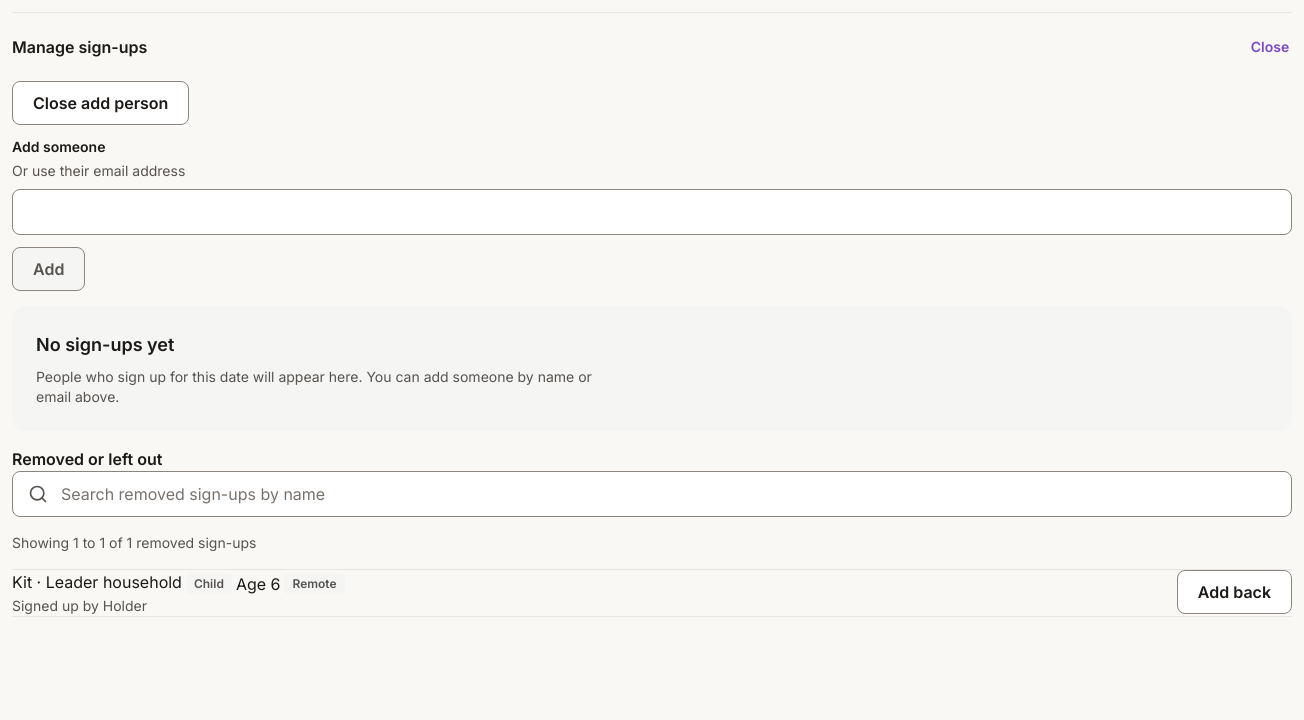
Test: shows childcare refusal without pretending the restore succeeded
Click the button with aria-label "Add back Kit" at (1234, 592), box x1=1177 y1=570 x2=1292 y2=614
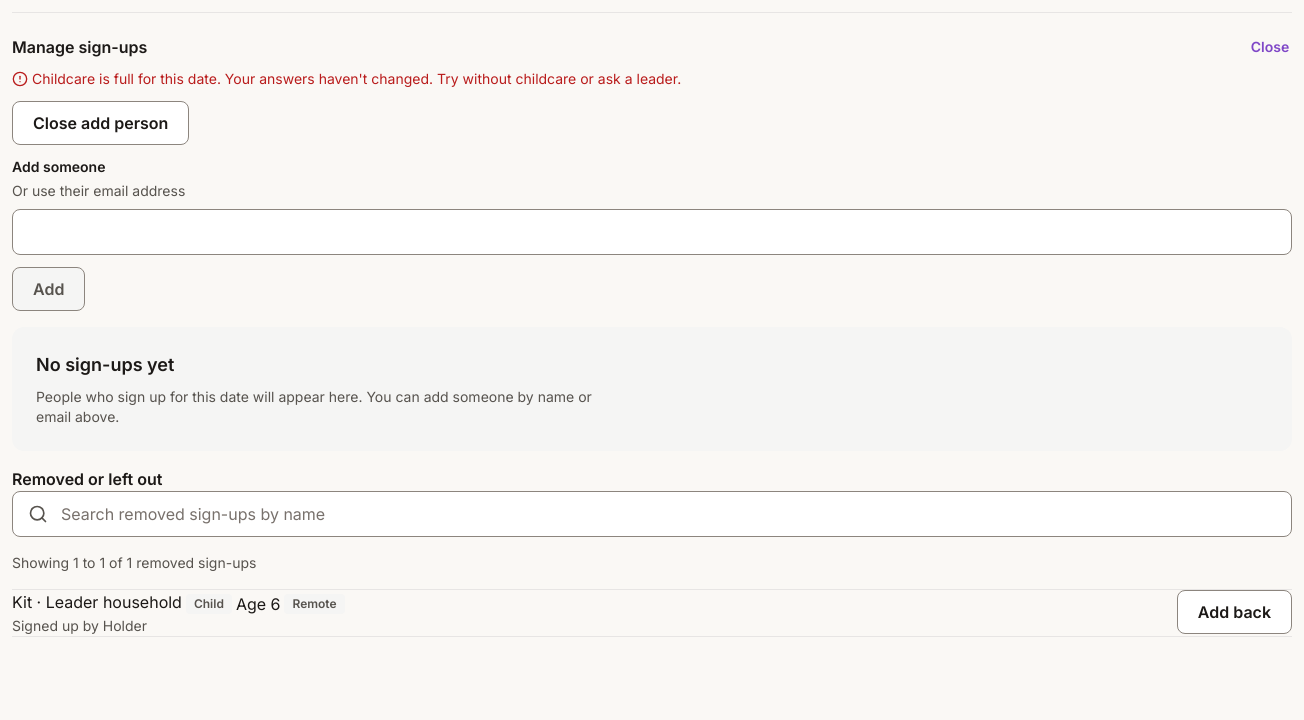
Expected: the 1st message shows "Childcare is full", x1=32 y1=70 x2=681 y2=87
